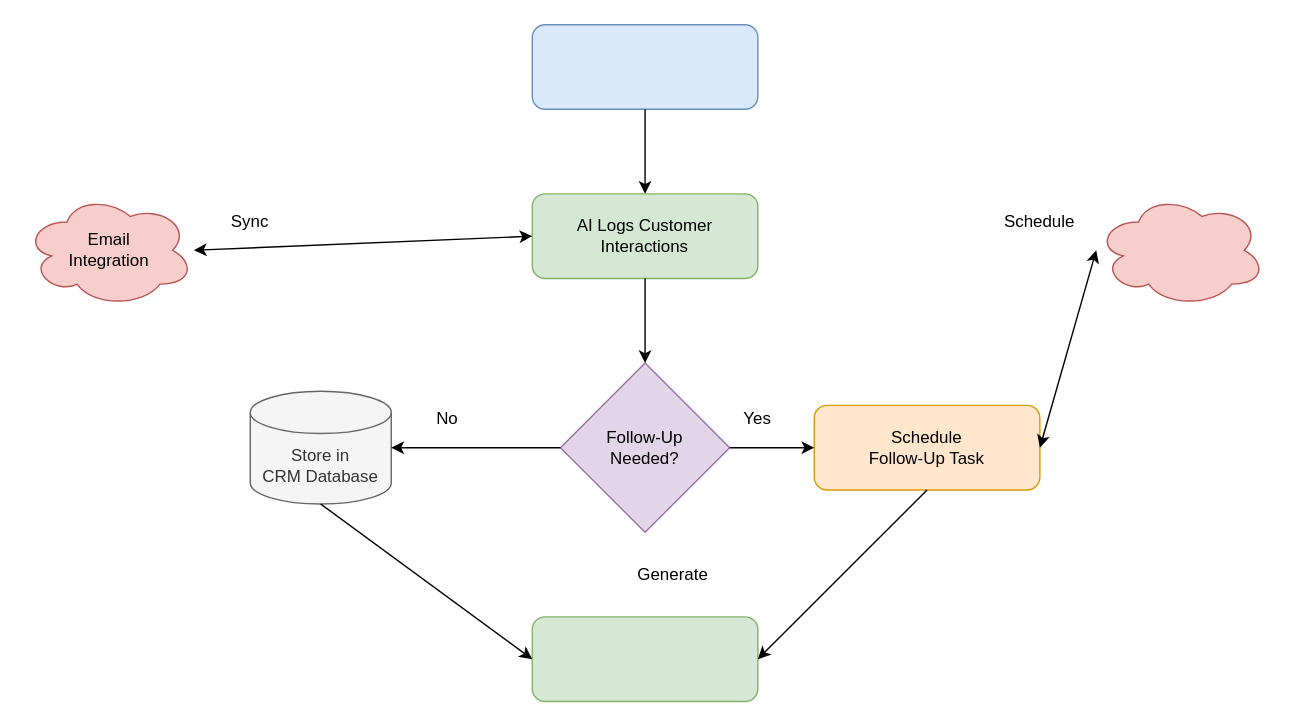
Some shapes in this 1290 by 726 pixel diagram are drawn without their labels. The shapes that lost their labels are listed below. From the top down, each one's centre as x and y in pixels, then its label:
At (x=644, y=66): "User Adds/Updates Client Profile".
At (x=1180, y=249): "Calendar Sync".
At (x=644, y=658): "AI Customer Insights & Recommendations".
